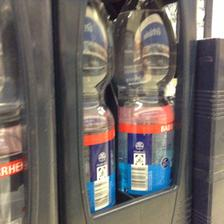Wasser: (112, 1, 176, 200), (79, 0, 115, 210)
